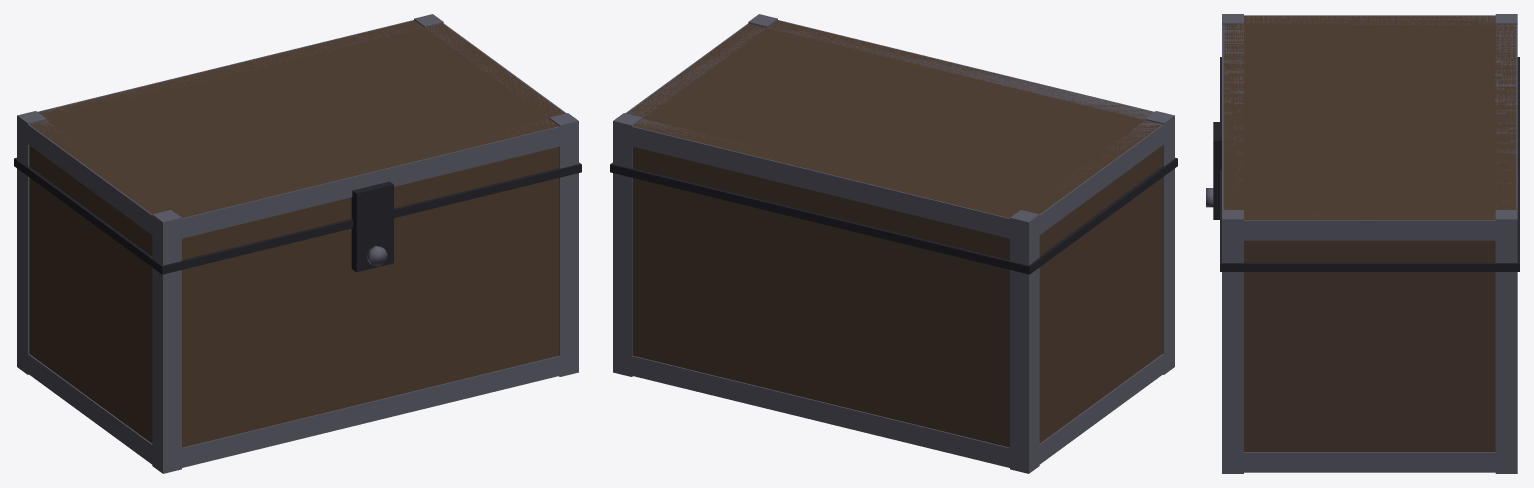
File: footlocker.glb
3 views of the same model, side by side, from view 1: azimuth 30°, elevation 25°; view 2: azimuth 150°, elevation 25°; view 3: azimuth 270°, elevation 25° (orthographic).
Parts seen in each view (by area): view 1: footlocker; view 2: footlocker; view 3: footlocker.
Part boxes in pixels (bbox=[...]): footlocker: bbox=[14, 14, 581, 473]; footlocker: bbox=[610, 14, 1177, 473]; footlocker: bbox=[1206, 14, 1519, 473].
Size of the model in its own units: 0.67 by 0.384 by 0.429.
